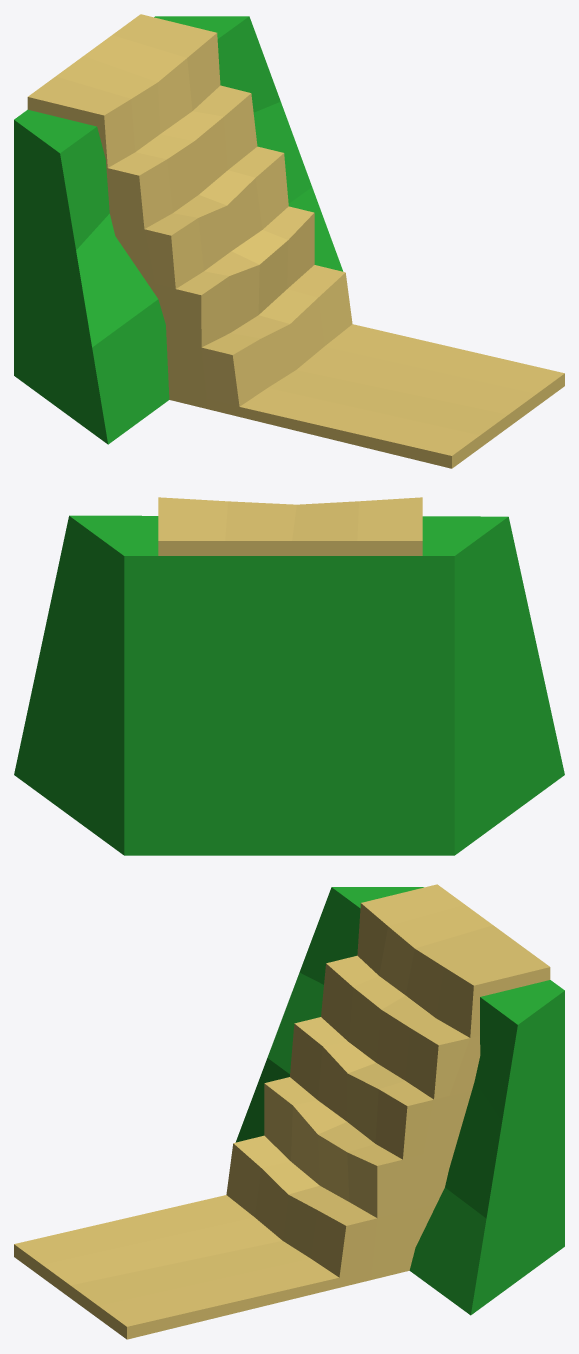
The model's file is cliff-small-stairs_corner.glb.
3 renders of one model, top to bottom at view 1: azimuth 30°, elevation 25°; view 2: azimuth 150°, elevation 25°; view 3: azimuth 270°, elevation 25°, orthographic. The views are drawn at different scales.
Visible parts, largest first — view 1: cliff-small-stairs_corner; view 2: cliff-small-stairs_corner; view 3: cliff-small-stairs_corner.
Part boxes in pixels (bbox=[...]): cliff-small-stairs_corner: bbox=[14, 14, 564, 468]; cliff-small-stairs_corner: bbox=[14, 497, 564, 855]; cliff-small-stairs_corner: bbox=[14, 884, 564, 1339].
Size of the model in its own units: 0.8227 by 0.525 by 0.975.
